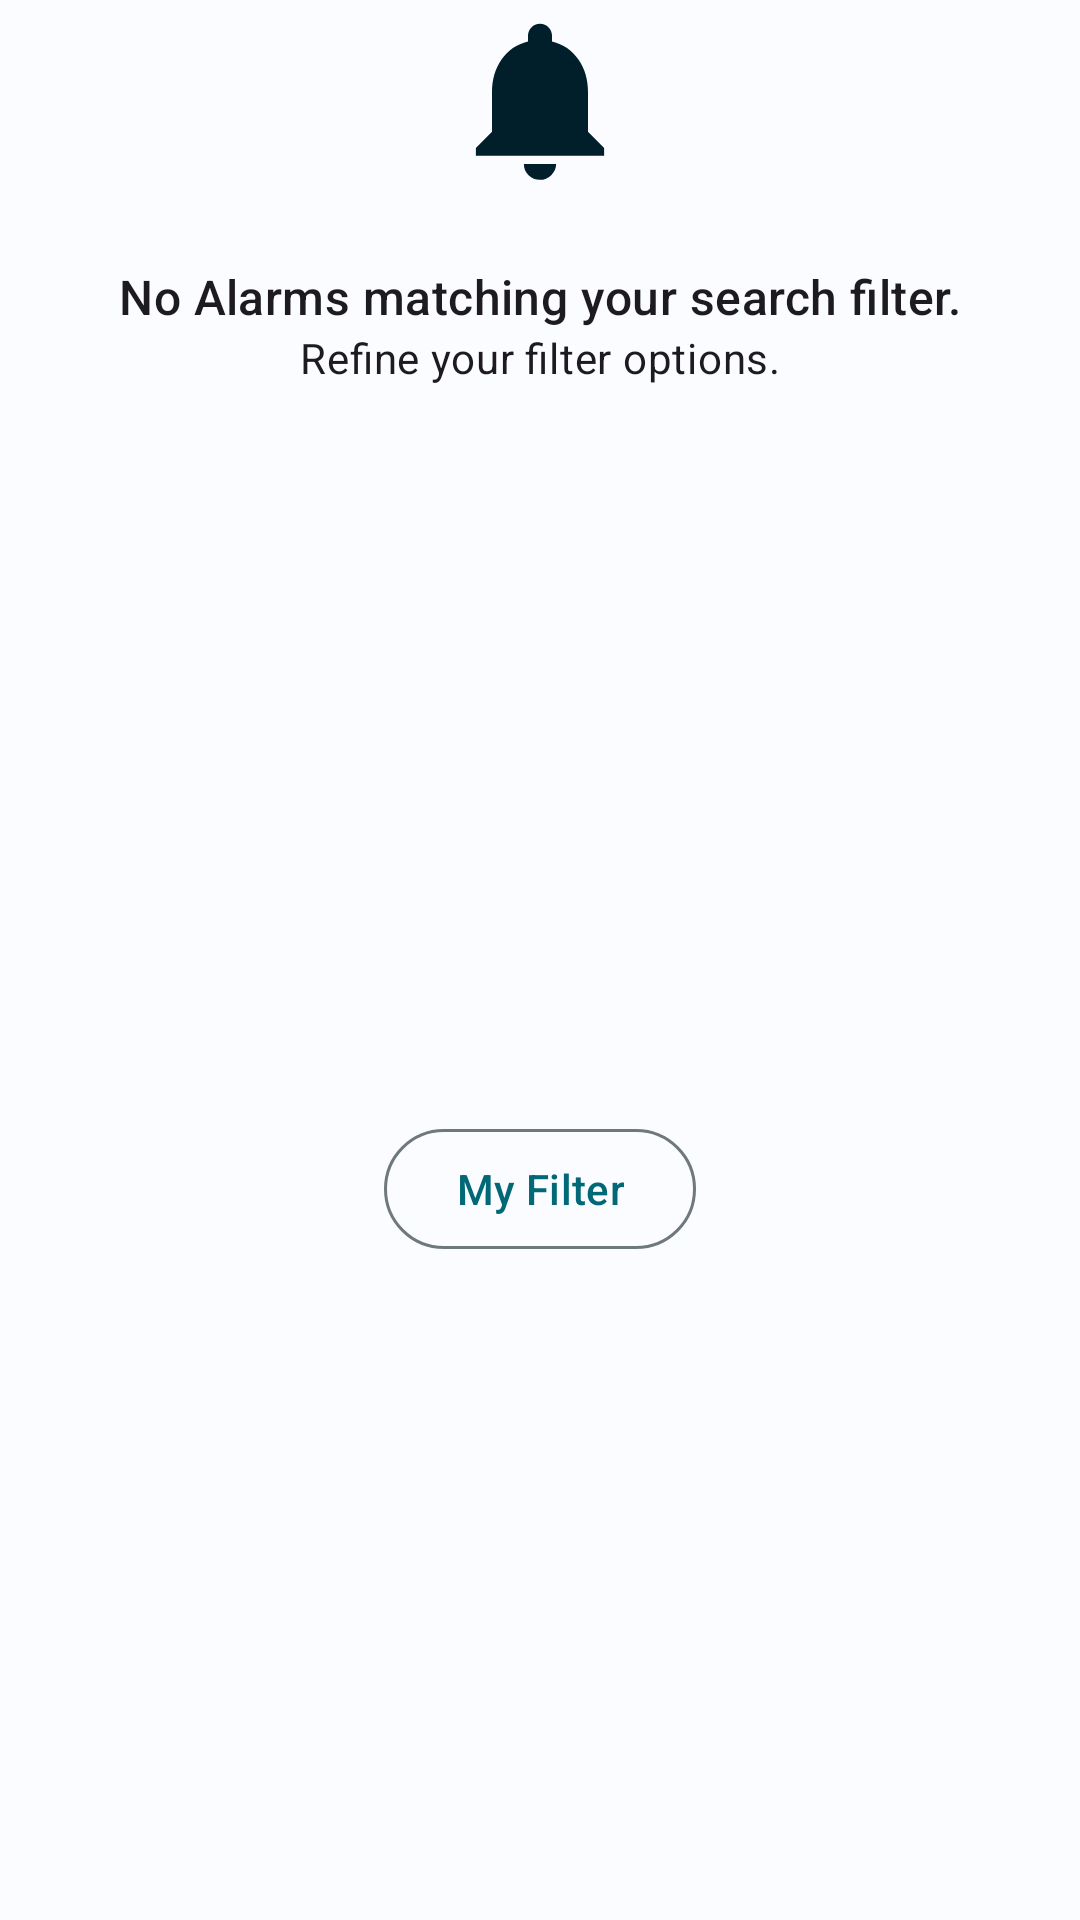

Named icons in this screenshot (1080px×1920px) and their centers, point (x, y):
empty alarms: point (540, 101)
